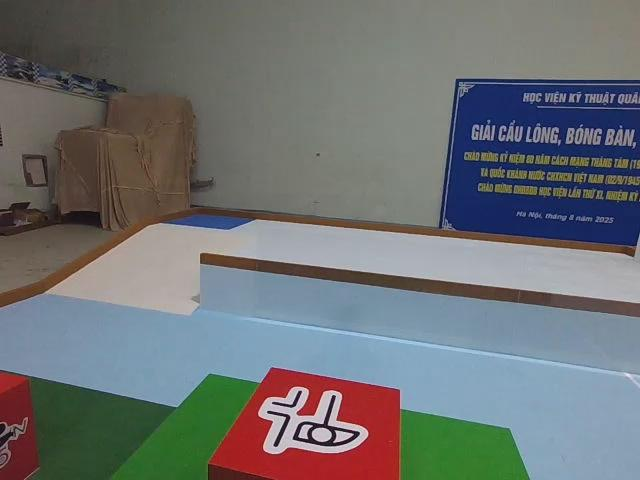R1: (0, 368, 41, 480)
R2 Real: (205, 363, 402, 480)
